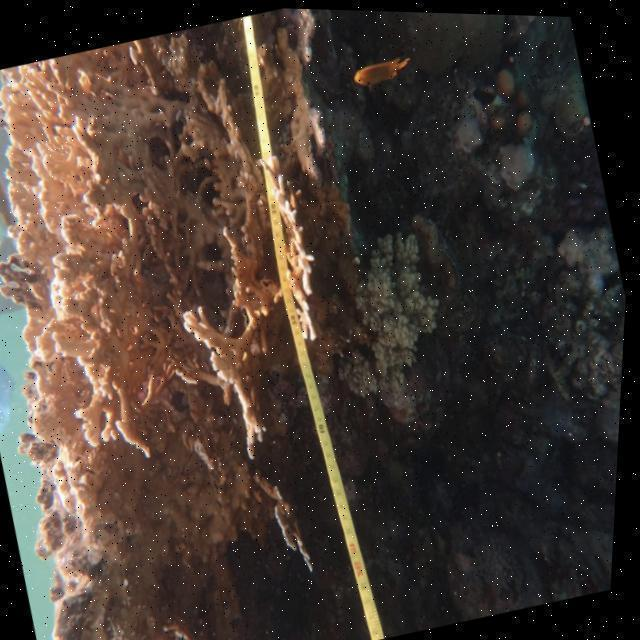Healthy Coral: (0, 0, 332, 626)
